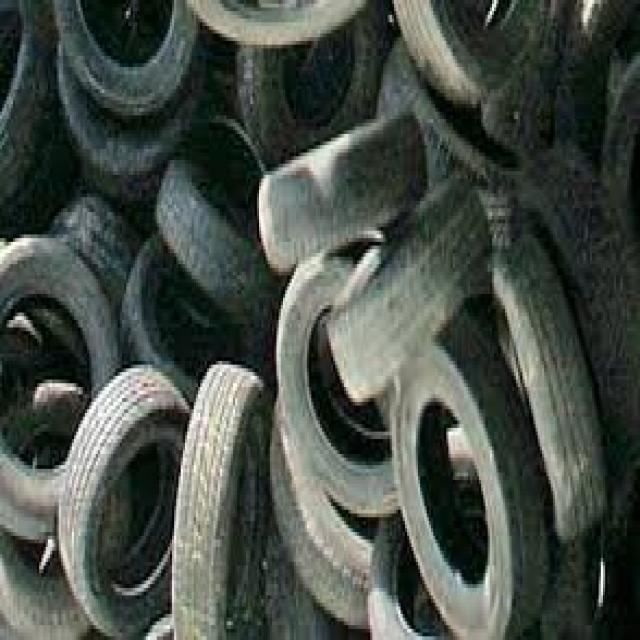Rubber -Non-Biodegradable but Recyclable-: (1, 4, 637, 633)
